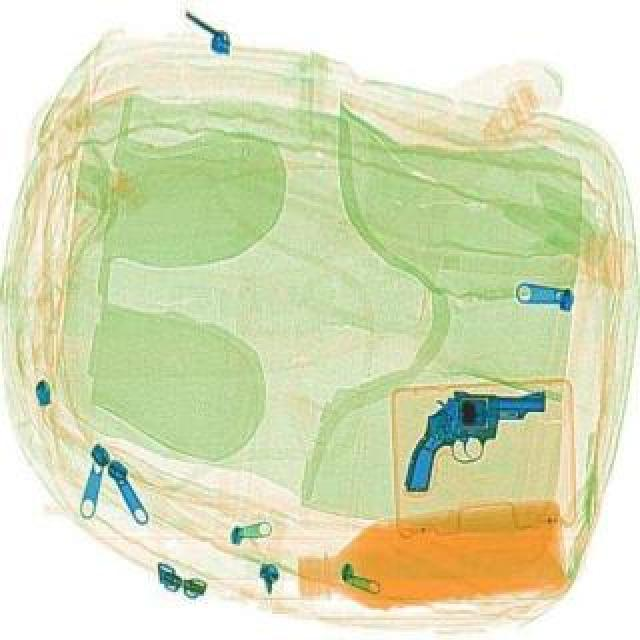gun: (406, 384, 550, 492)
